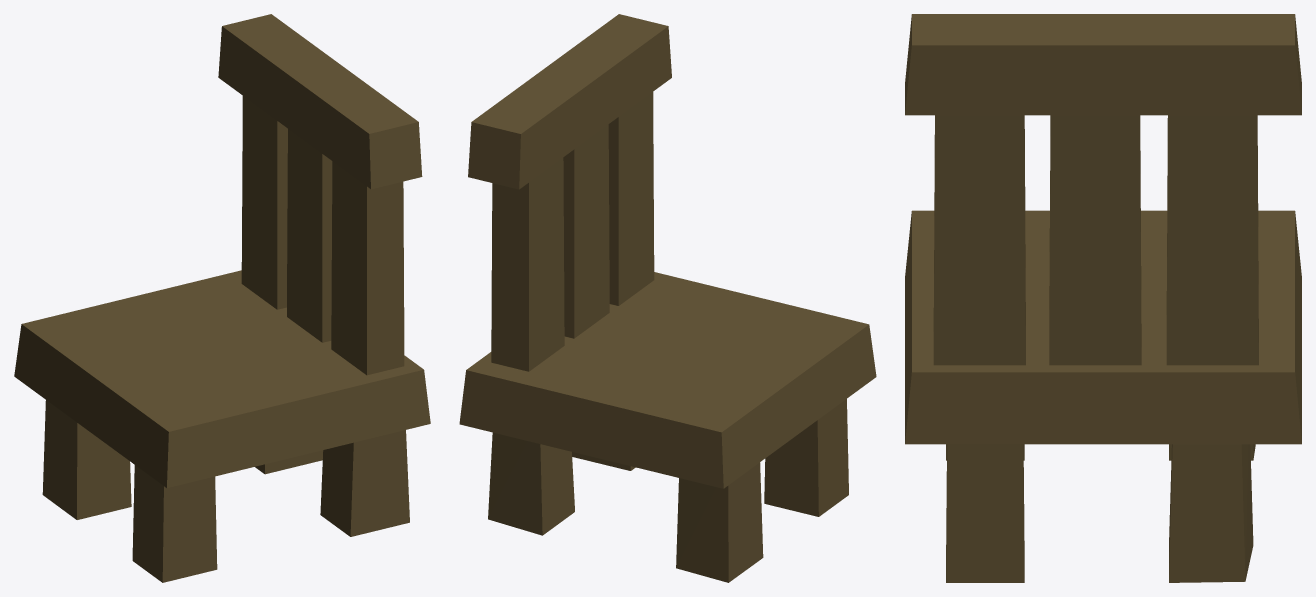
Rendered from Chair 03.FBX.
3 renders of one model, left to right at view 1: azimuth 30°, elevation 25°; view 2: azimuth 150°, elevation 25°; view 3: azimuth 270°, elevation 25°, orthographic. The views are drawn at different scales.
Parts seen in each view (by area): view 1: Chair 03; view 2: Chair 03; view 3: Chair 03.
Boxes of the visible parts, bbox=[...] form: Chair 03: bbox=[14, 14, 430, 582]; Chair 03: bbox=[459, 14, 876, 582]; Chair 03: bbox=[905, 14, 1301, 582].
Size of the model in its own units: 72.33 by 108 by 72.47.
